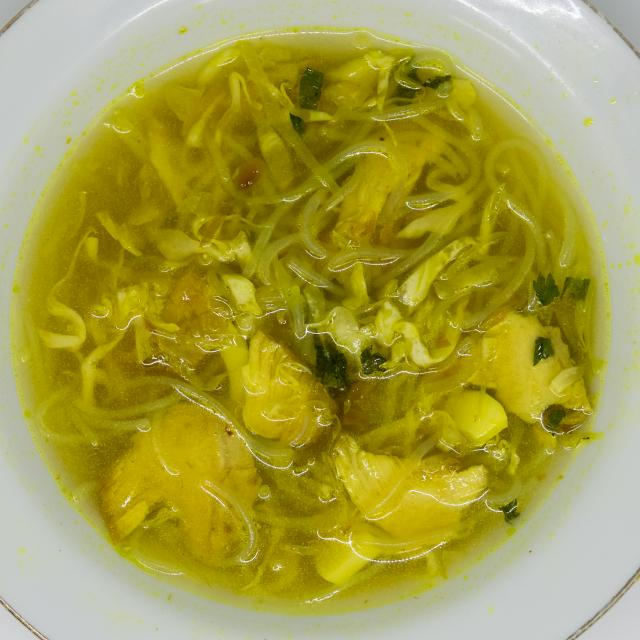Soto-Lamongan: (19, 11, 606, 616)
